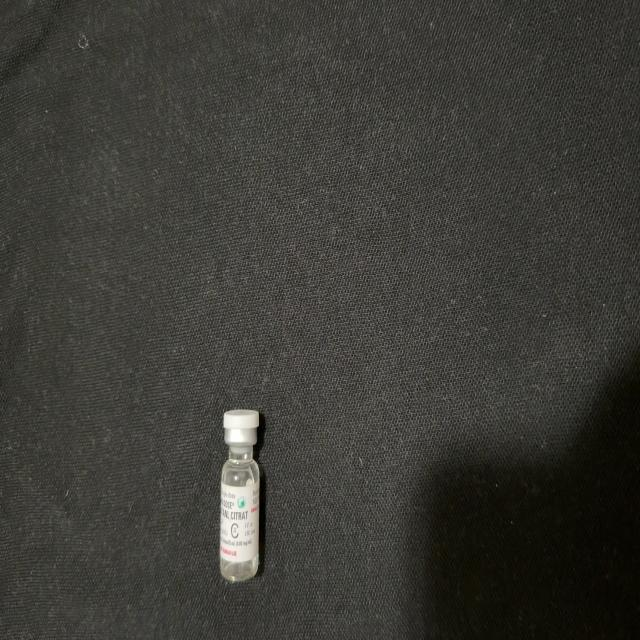fentanl_citrat: (220, 412, 260, 579)
